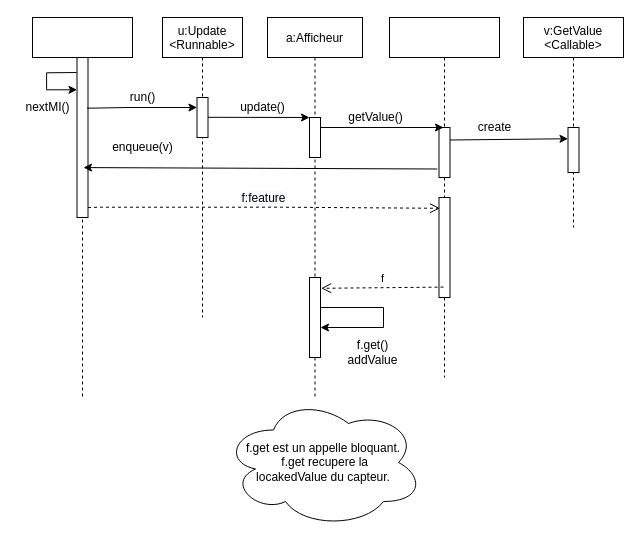
Image size: 641x545. Some labels were removed from this diagram. The box of each missing label's shape, as (x1, y1, x2, y2) in pixels:
c:Canal: (388, 16, 500, 378)
Scheduler: (32, 16, 132, 398)
